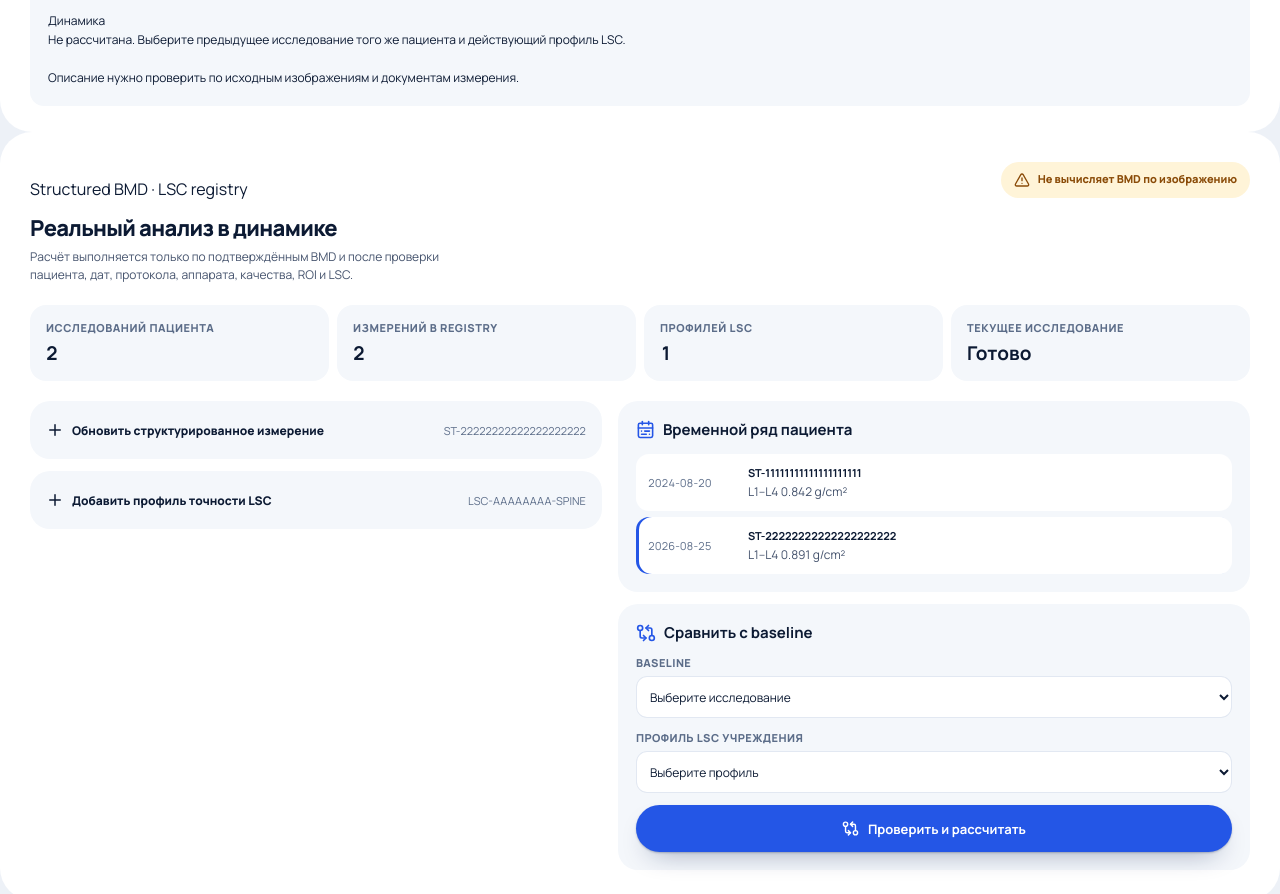
Test: structured longitudinal workflow › selects a prior measurement and renders a validated LSC comparison
(page scrolled)
Check: the heading "Временной ряд пациента" is shown, box [663,419,852,440]
Select "2024-08-20 · ST-11111111111111111111" in the dropdown labelled "Baseline" at [934, 697], box [636,676,1232,718]
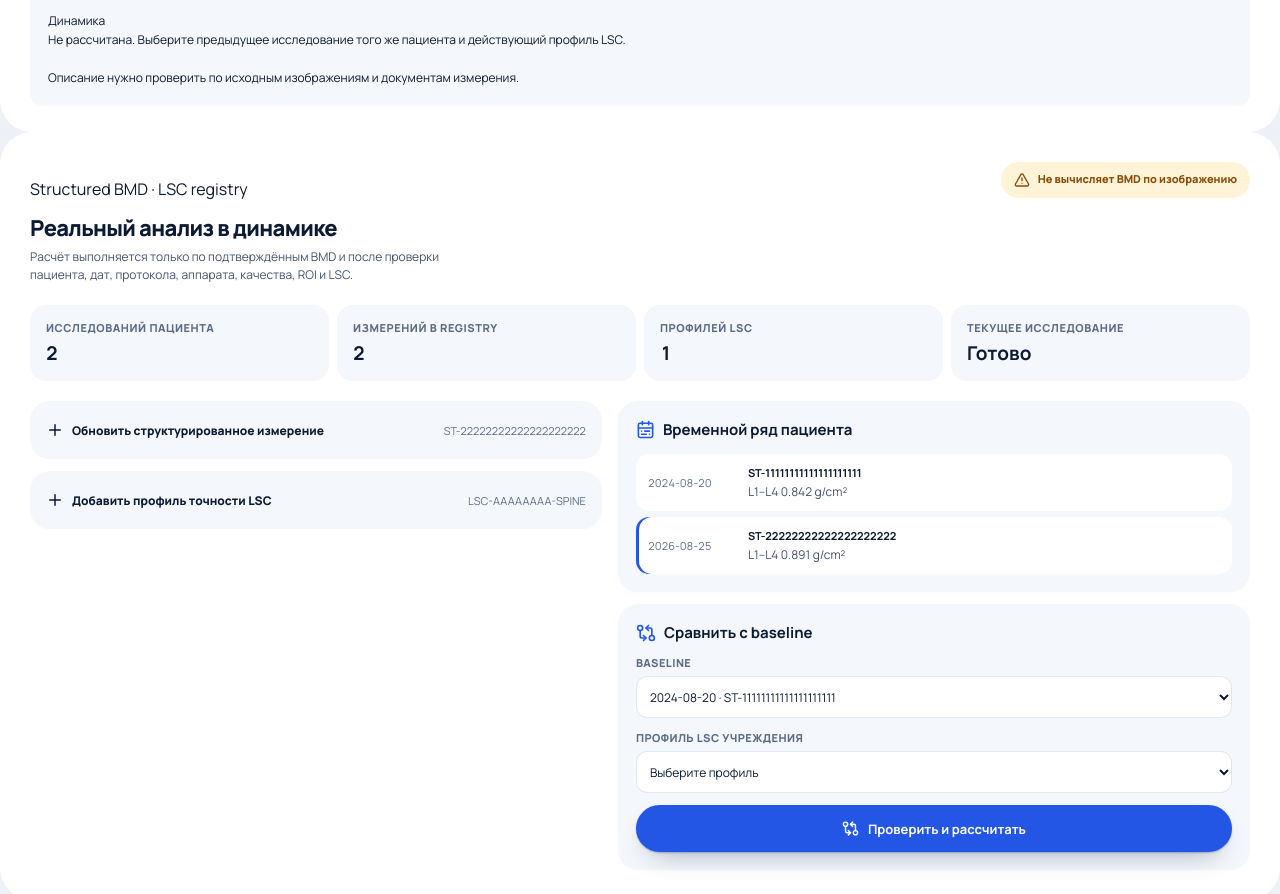
Select "LSC-TEST-SPINE · v1.0.0" in the dropdown labelled "Профиль LSC учреждения" at [934, 772], box [636,751,1232,793]
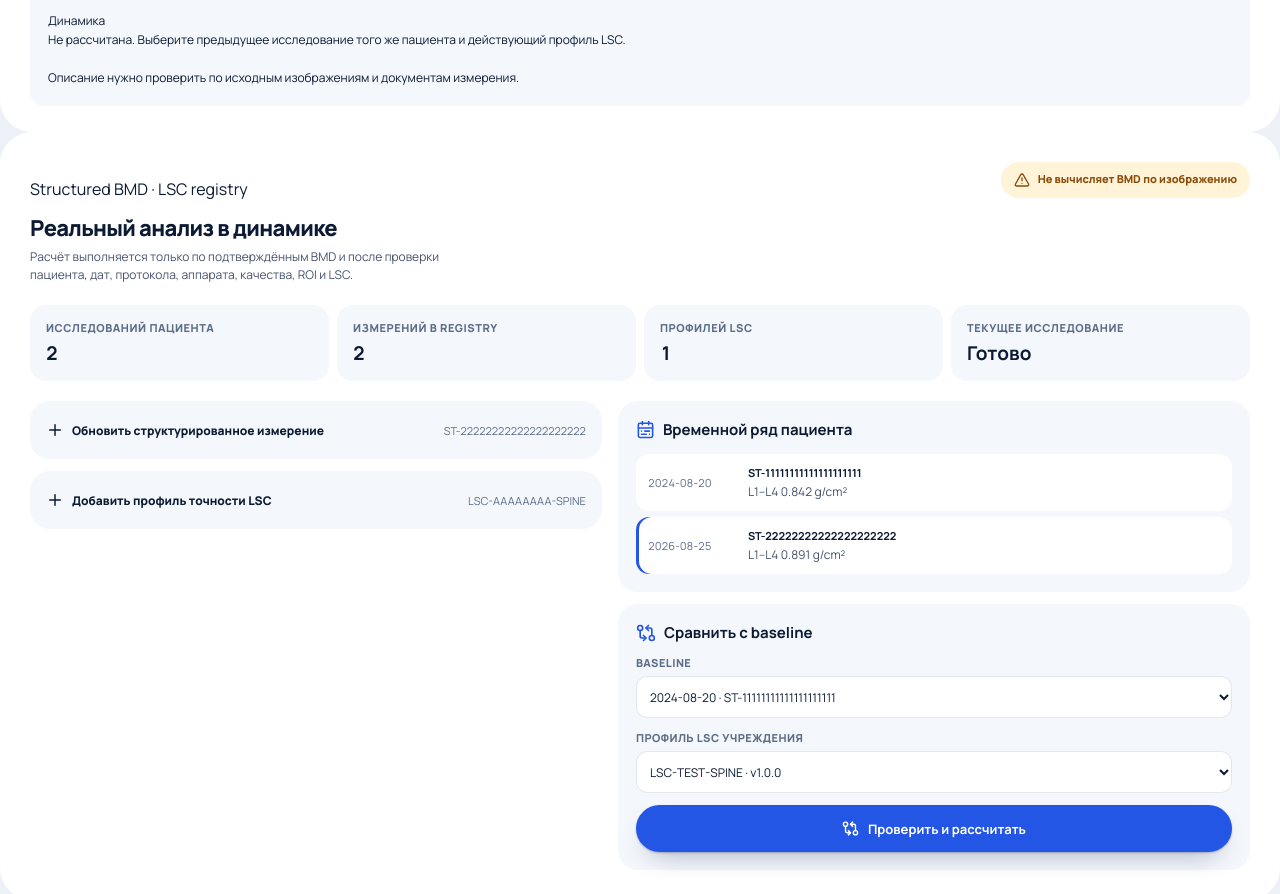
Click the button "Проверить и рассчитать" at [934, 828], box [636,805,1232,852]
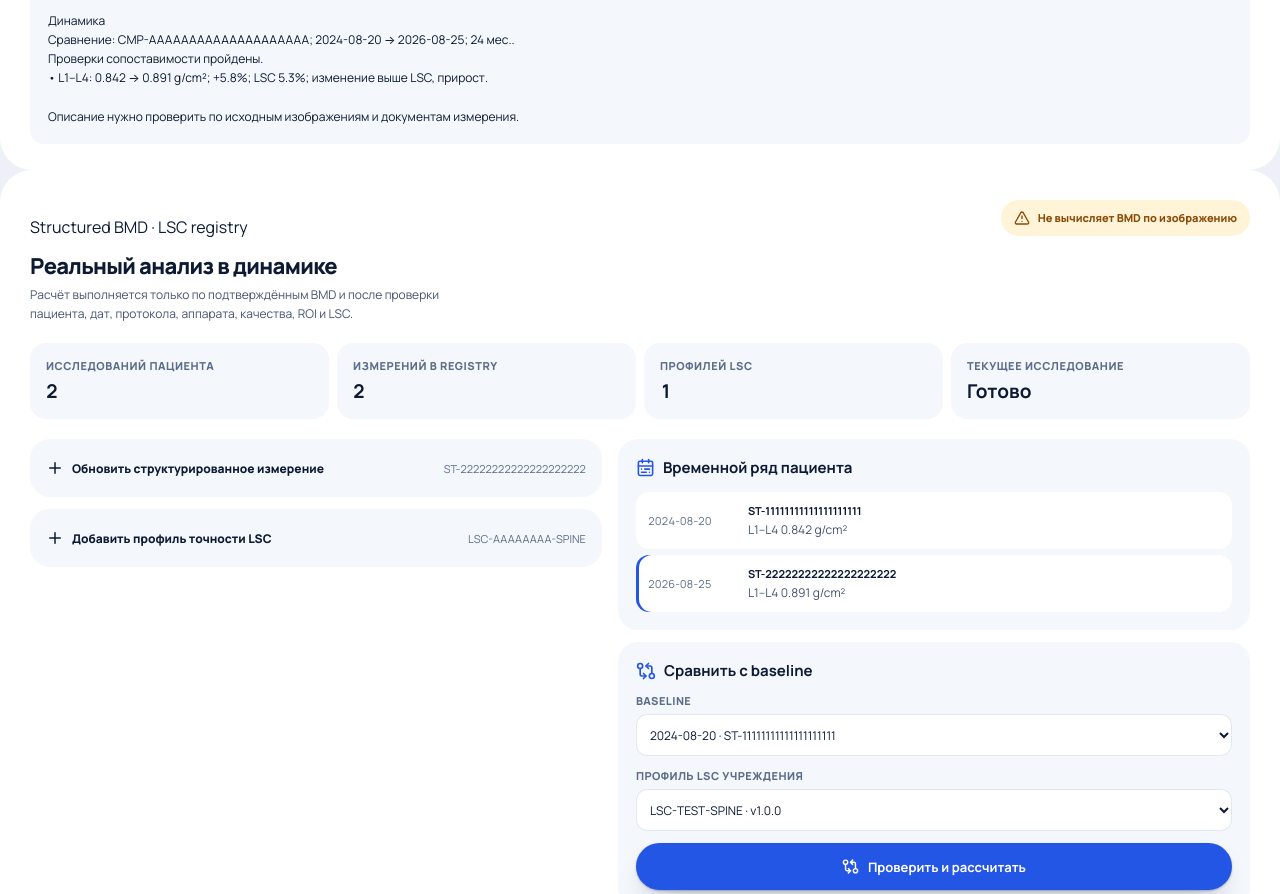
Select "Выберите исследование" in the dropdown labelled "Baseline" at [934, 735], box [636,714,1232,756]
(page scrolled)
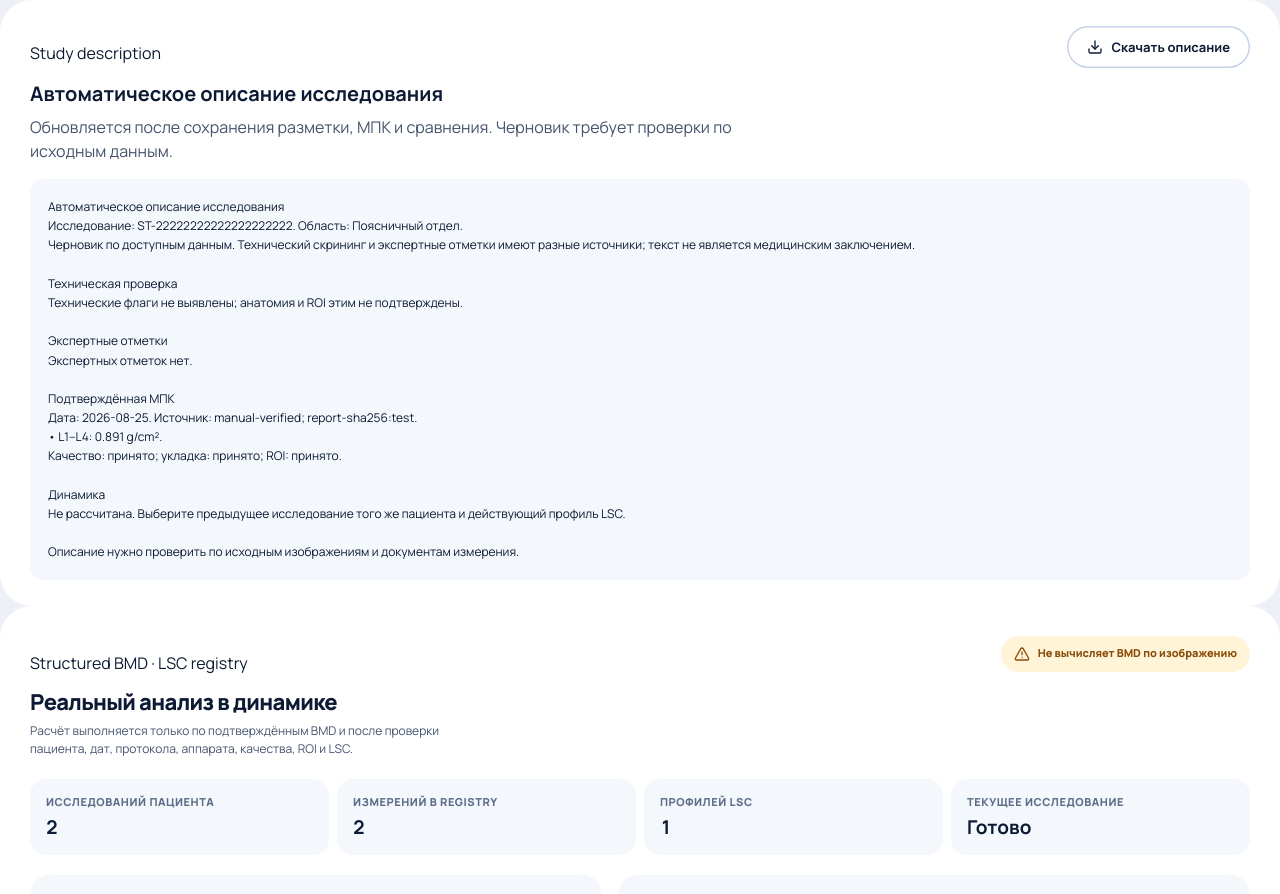
Check: the text "Не рассчитана. Выберите предыдущее исследование" is shown, box [48,198,915,560]
